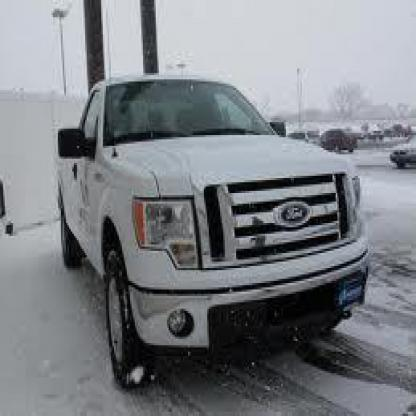Vehicle: (58, 71, 369, 388)
